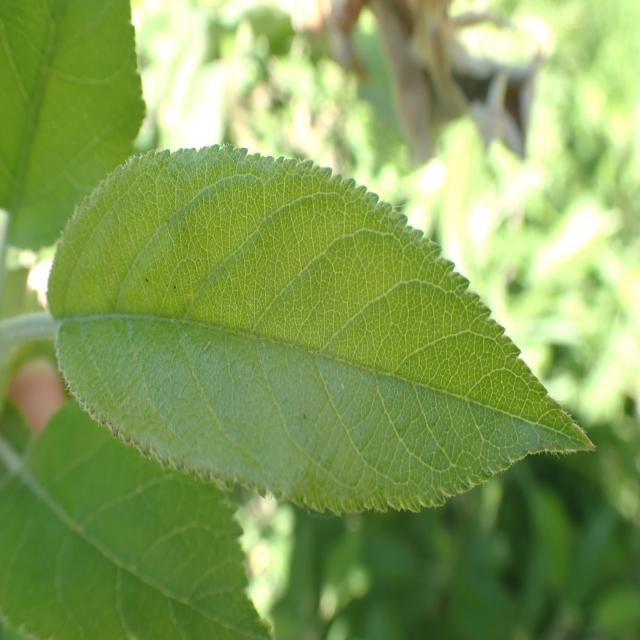healthy: (46, 143, 597, 516), (0, 402, 274, 639), (0, 0, 146, 252)
